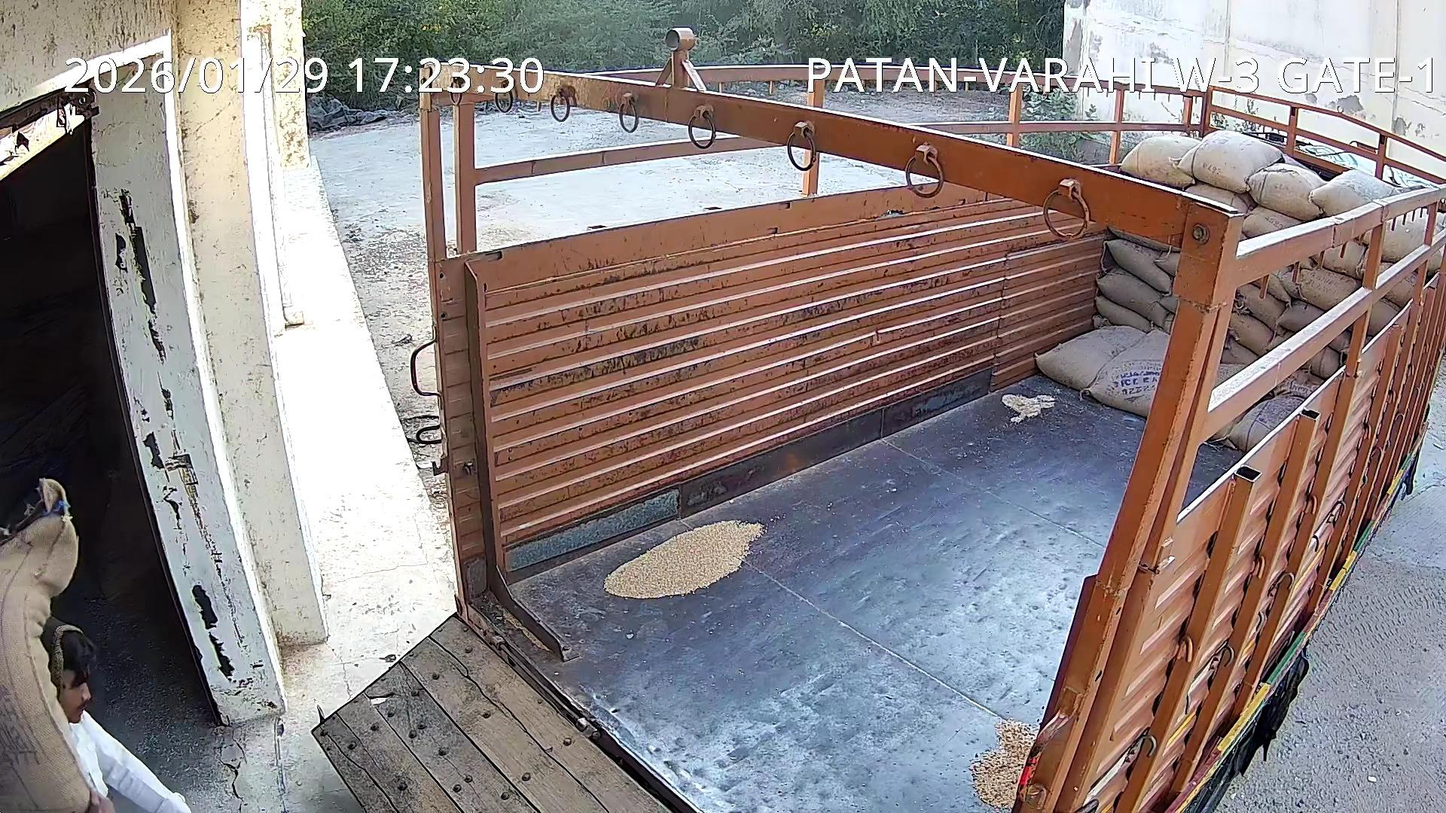Sack: (0, 480, 88, 812)
